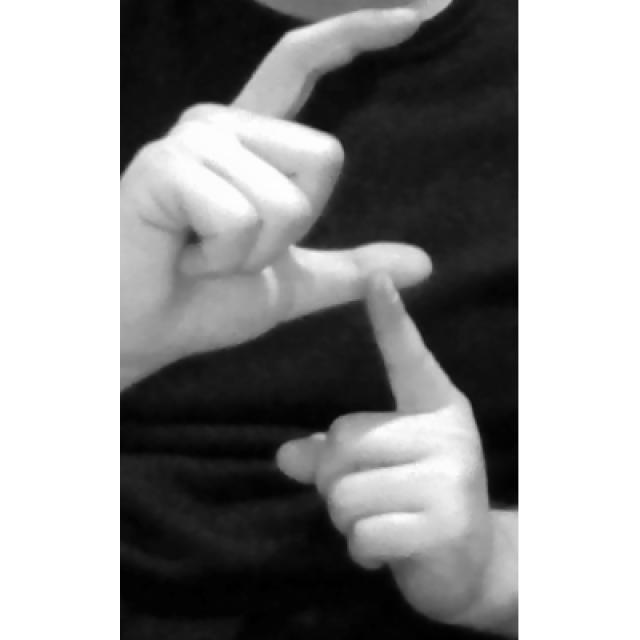C_: (122, 7, 495, 638)
